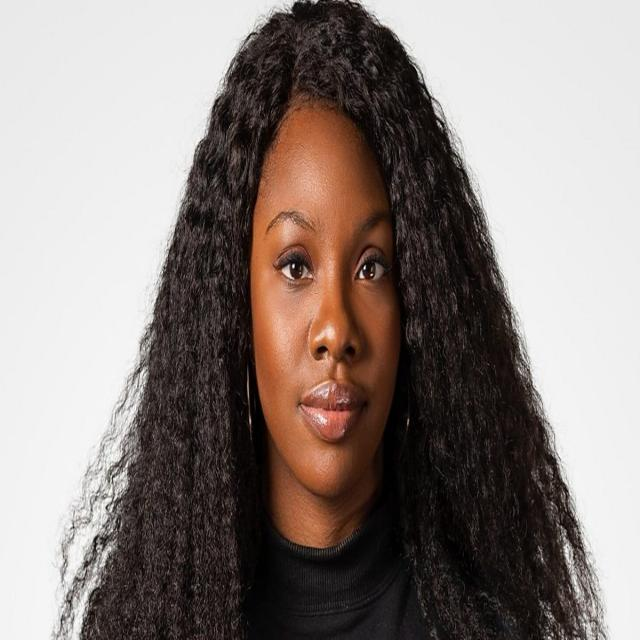sem_oculos: (227, 187, 428, 309)
